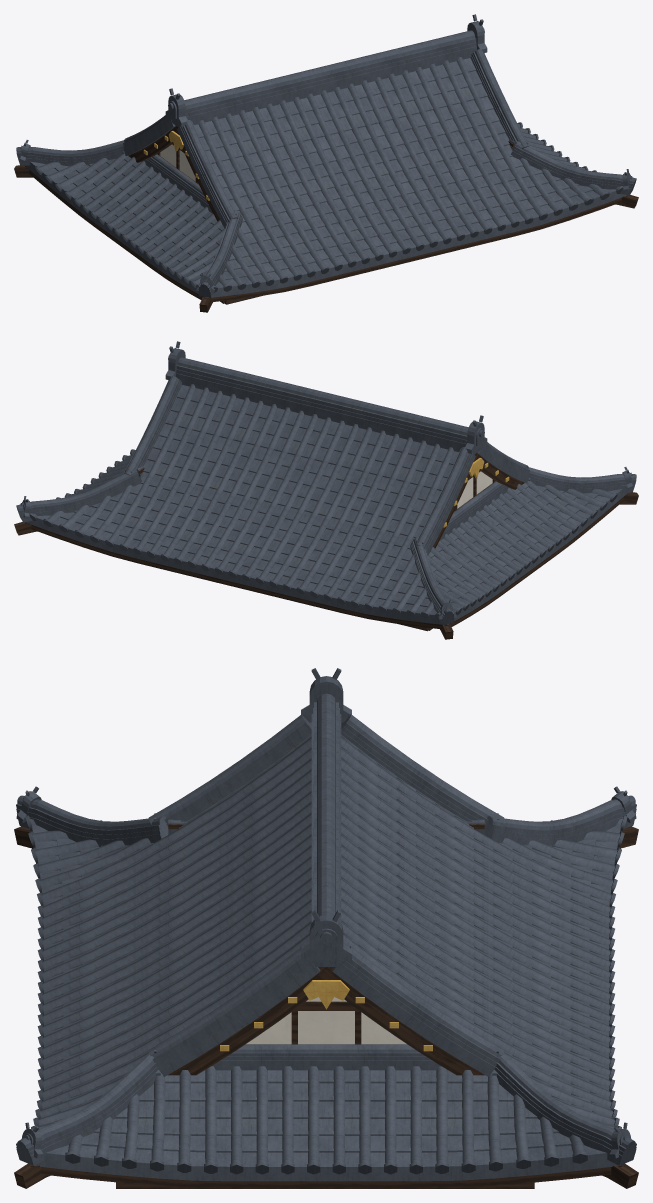
File: HO_Roof_Irimoya_Medium.fbx
3 renders of one model, top to bottom at view 1: azimuth 30°, elevation 25°; view 2: azimuth 150°, elevation 25°; view 3: azimuth 270°, elevation 25°, orthographic. The views are drawn at different scales.
Parts seen in each view (by area): view 1: HO_Roof_Irimoya_Medium_Tiles, HO_Roof_Irimoya_Medium_Frame__Timber_Dark, HO_Roof_Irimoya_Medium_Frame__Plaster_White; view 2: HO_Roof_Irimoya_Medium_Tiles, HO_Roof_Irimoya_Medium_Frame__Timber_Dark, HO_Roof_Irimoya_Medium_Frame__Plaster_White; view 3: HO_Roof_Irimoya_Medium_Tiles, HO_Roof_Irimoya_Medium_Frame__Timber_Dark, HO_Roof_Irimoya_Medium_Frame__Plaster_White, HO_Roof_Irimoya_Medium_Frame__Gold_Leaf.
Part boxes in pixels (box(x1,y1,x2,y2)): HO_Roof_Irimoya_Medium_Tiles: box(16, 14, 636, 298); HO_Roof_Irimoya_Medium_Frame__Timber_Dark: box(14, 125, 638, 312); HO_Roof_Irimoya_Medium_Frame__Plaster_White: box(160, 144, 195, 181); HO_Roof_Irimoya_Medium_Tiles: box(16, 341, 636, 625); HO_Roof_Irimoya_Medium_Frame__Timber_Dark: box(14, 452, 638, 639); HO_Roof_Irimoya_Medium_Frame__Plaster_White: box(457, 471, 492, 508); HO_Roof_Irimoya_Medium_Tiles: box(16, 668, 636, 1181); HO_Roof_Irimoya_Medium_Frame__Timber_Dark: box(14, 824, 638, 1188); HO_Roof_Irimoya_Medium_Frame__Plaster_White: box(246, 997, 406, 1044); HO_Roof_Irimoya_Medium_Frame__Gold_Leaf: box(220, 980, 432, 1051).
Bounding box in the file's own units: 32.33 × 11.49 × 24.33.
